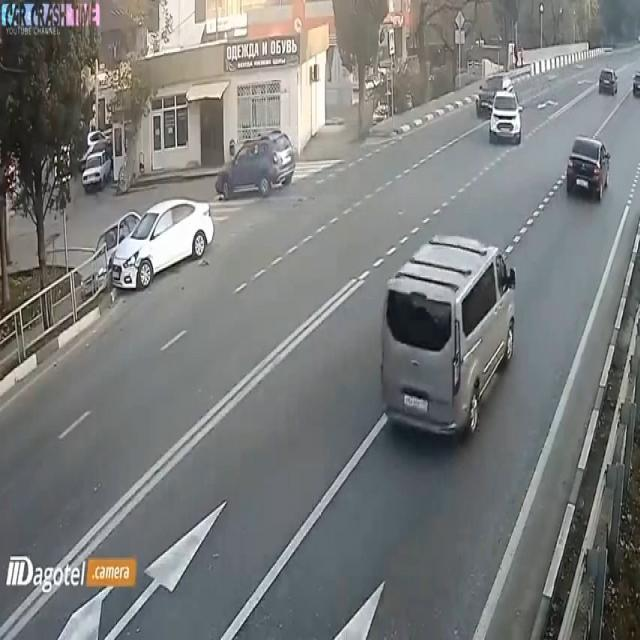Accident: (94, 186, 216, 306)
